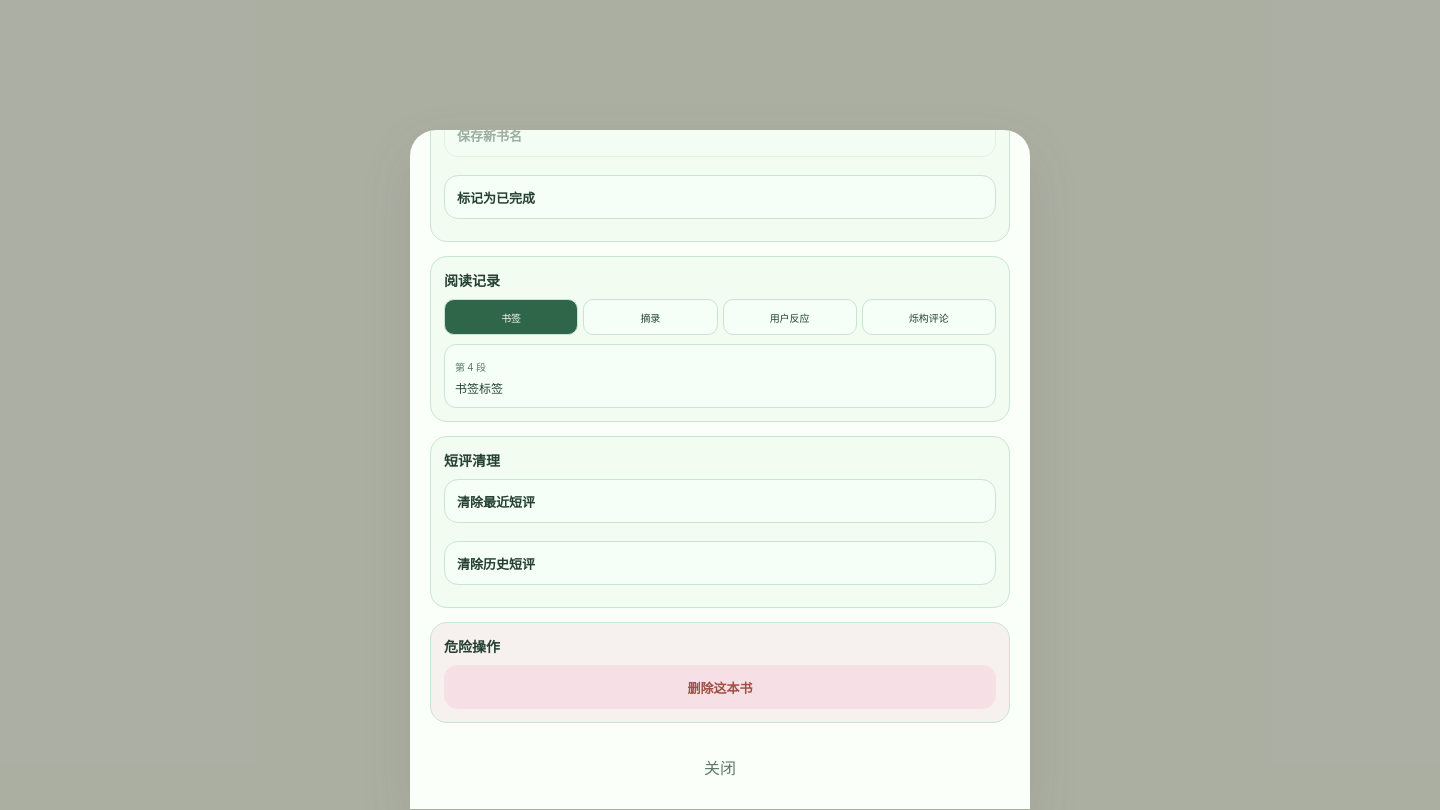
Scenario: BookManagementSheet › hides cloud deletion controls for device-only storage
This screenshot has width=1440, height=810.
(page scrolled)
Click the button "删除这本书": (720, 687) [444,665,996,709]
(page scrolled)
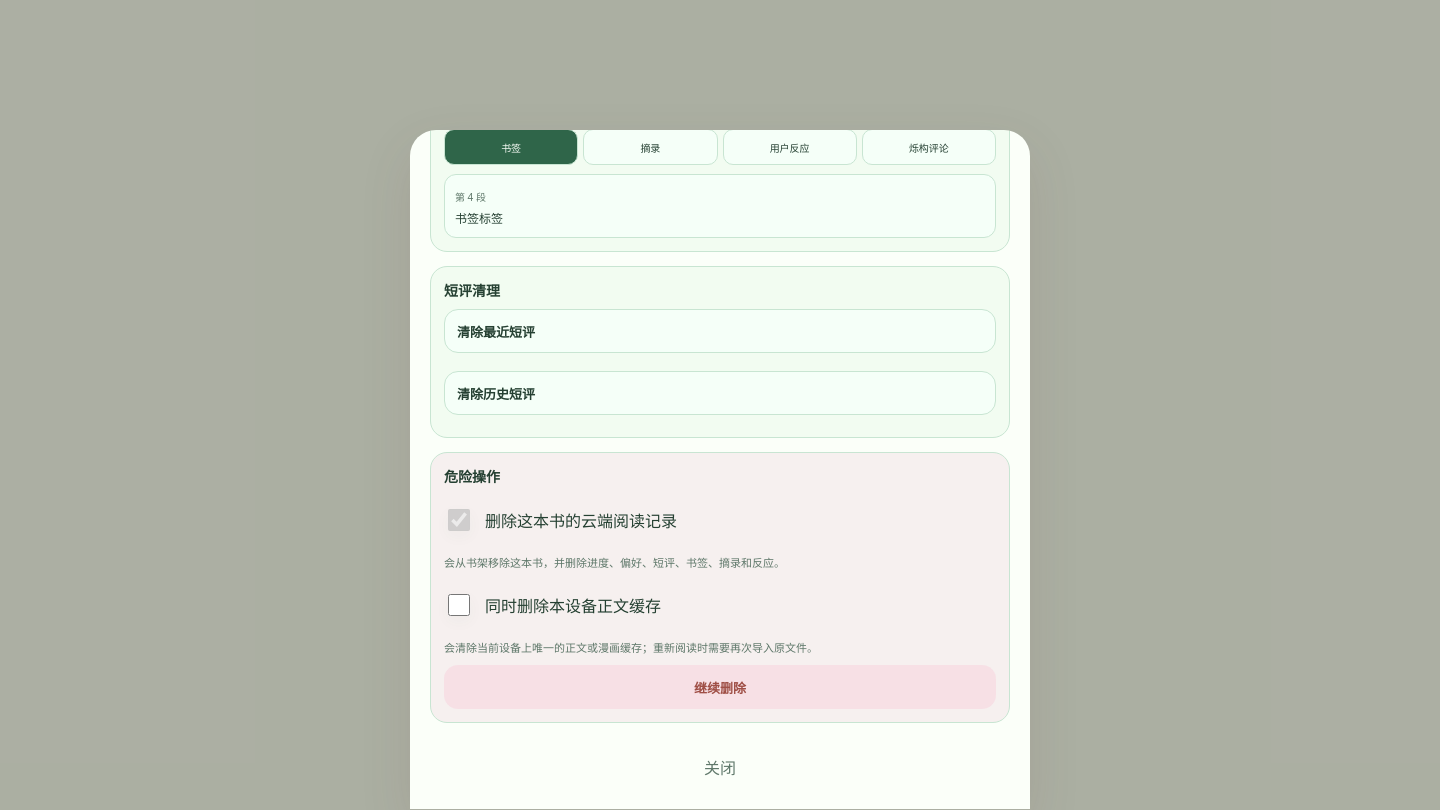
Now the text "会清除当前设备上唯一的正文或漫画缓存；重新阅读时需要再次导入原文件。" is shown, box [444,640,818,655]
